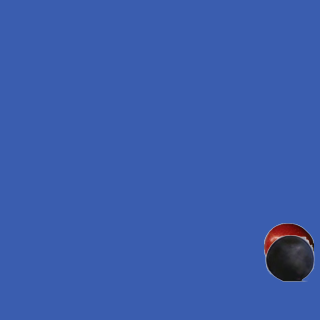Apple Braeburn: (263, 222, 313, 272)
Grape Blue: (264, 232, 314, 282)
